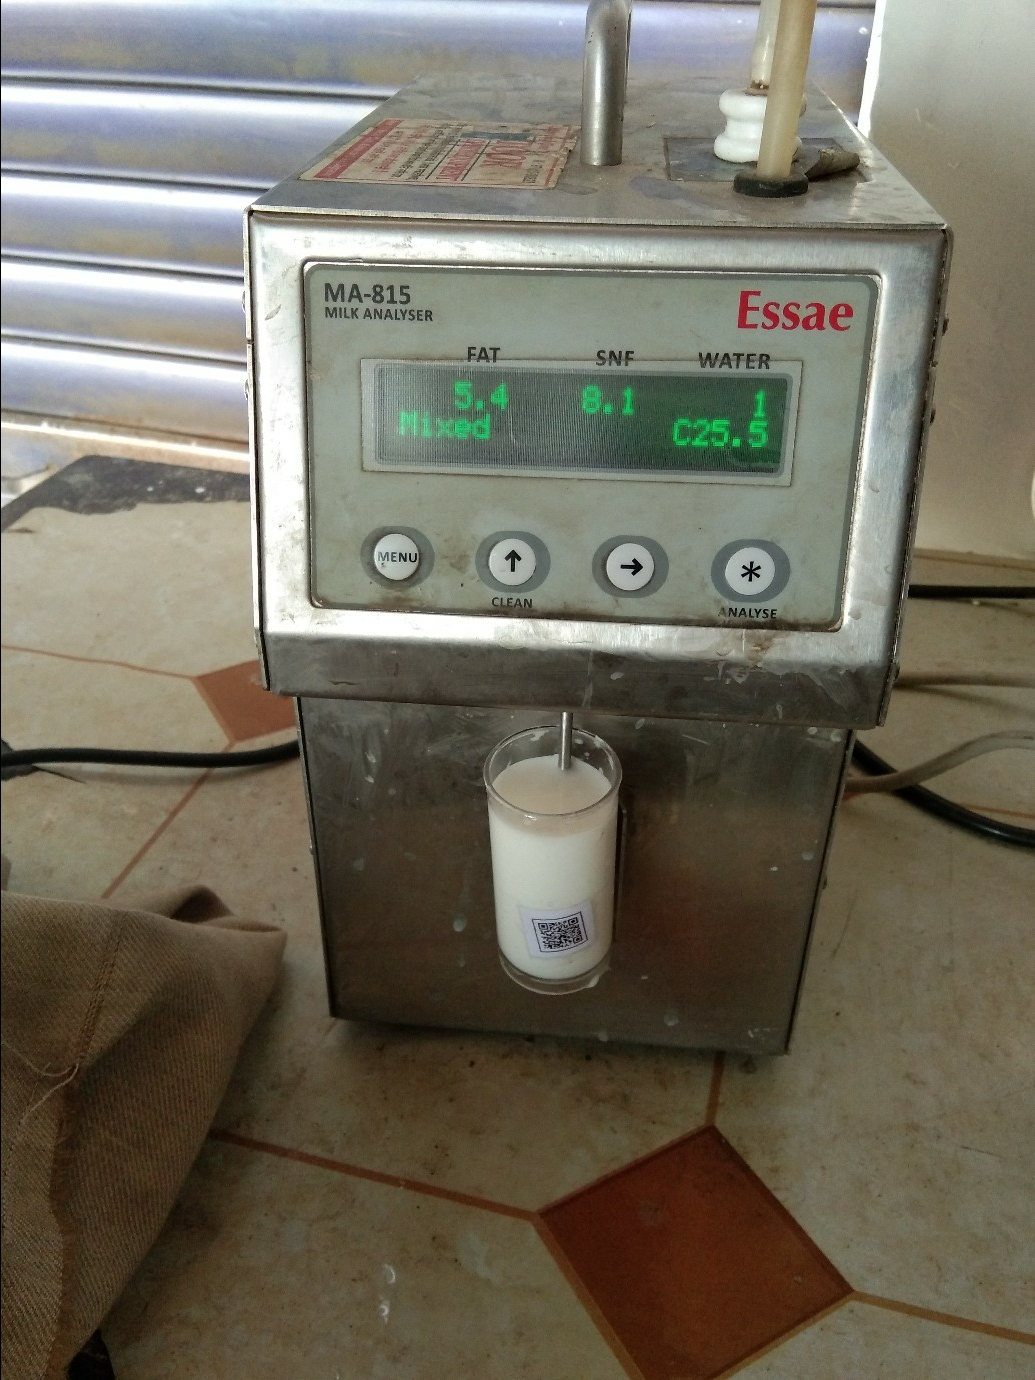lcd: (346, 362, 837, 498)
qr: (529, 906, 593, 962)
